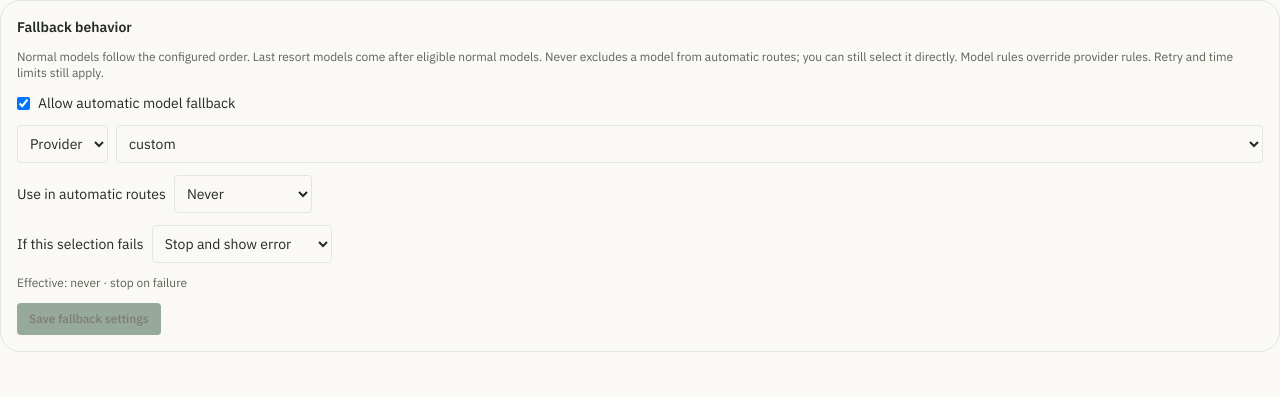
Test: keeps edits when saving fails
Select "Last resort" in the dropdown named "Automatic fallback participation" at (243, 194), box x1=174 y1=175 x2=312 y2=213
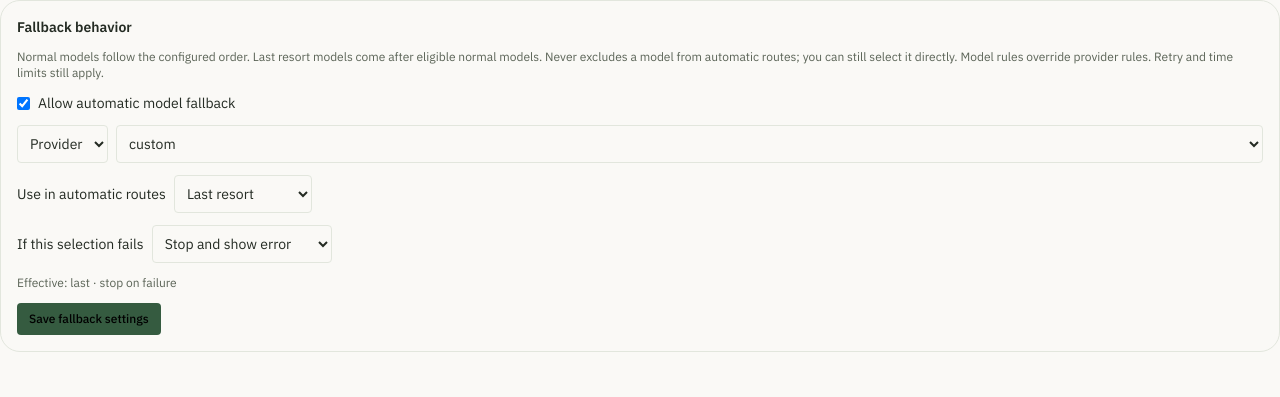
Click the button "Save fallback settings" at (89, 319), box x1=17 y1=303 x2=161 y2=335
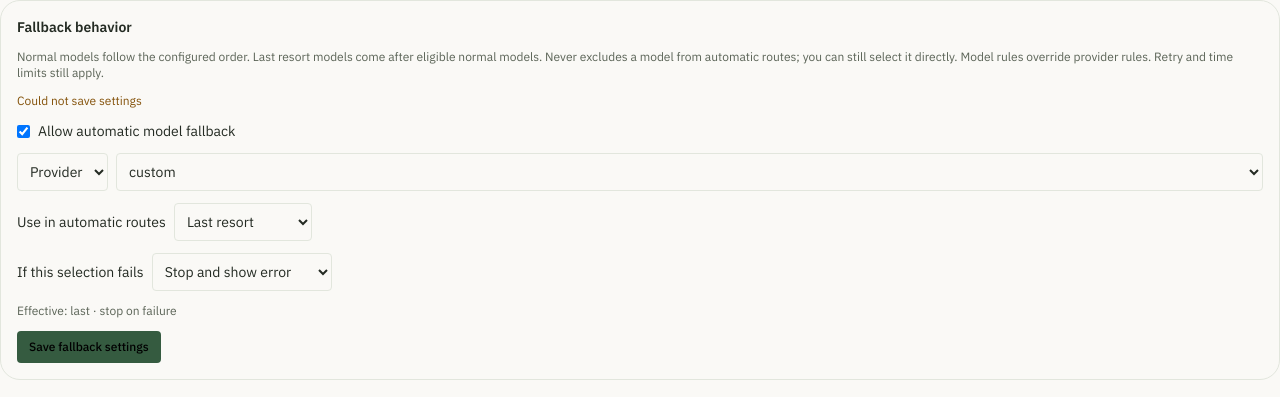
Check: the button "Save fallback settings" is enabled, box x1=17 y1=331 x2=161 y2=363
Check: the message reads "Could not save settings", box x1=17 y1=93 x2=142 y2=108
